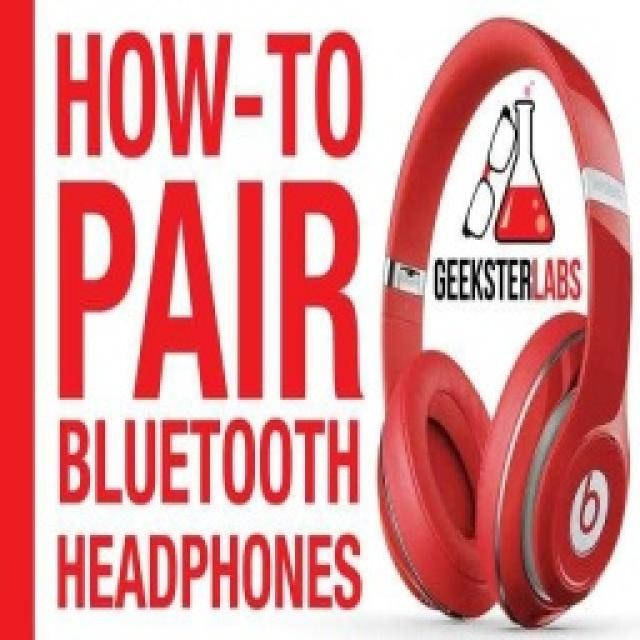headphones: (375, 12, 633, 628)
